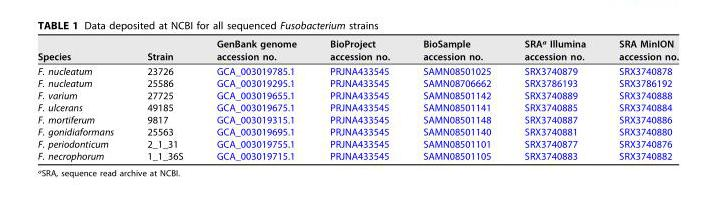table: (37, 37, 678, 161)
table column: (199, 37, 312, 161), (405, 37, 507, 161), (507, 37, 601, 161), (312, 37, 405, 161), (37, 37, 129, 161), (601, 37, 678, 161), (129, 37, 199, 161)
table column header: (37, 37, 678, 63)
table row: (37, 37, 678, 63), (37, 63, 678, 76), (37, 88, 678, 101), (37, 76, 678, 88), (37, 101, 678, 113), (37, 113, 678, 125), (37, 125, 678, 137), (37, 137, 678, 149), (37, 149, 678, 161)
